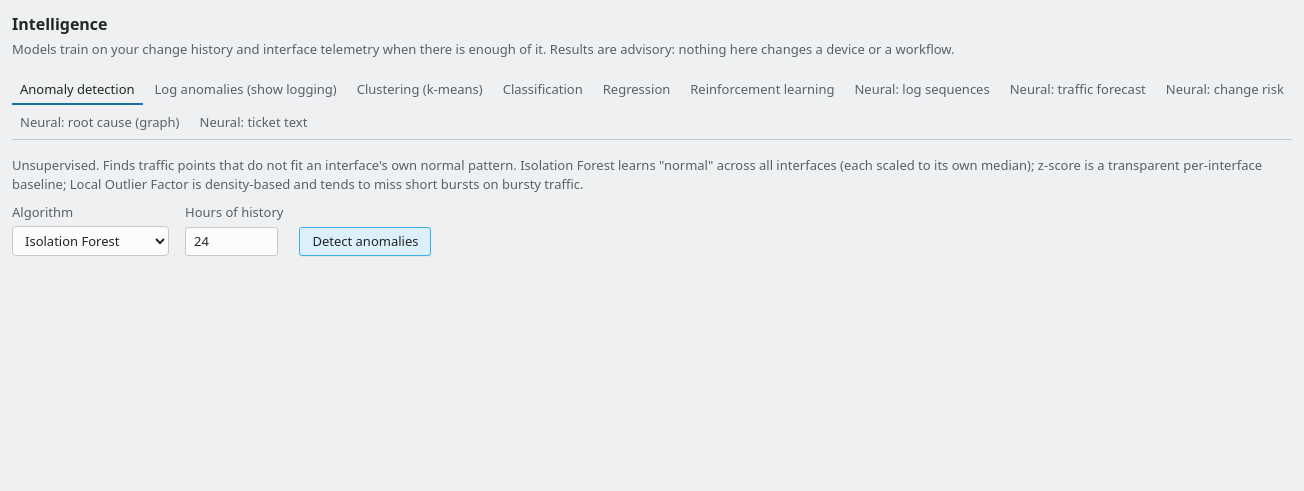
Scenario: MachineLearning › shows anomalous interfaces with a chart
Click the button "Detect anomalies" at (365, 241), box [299,226,432,256]
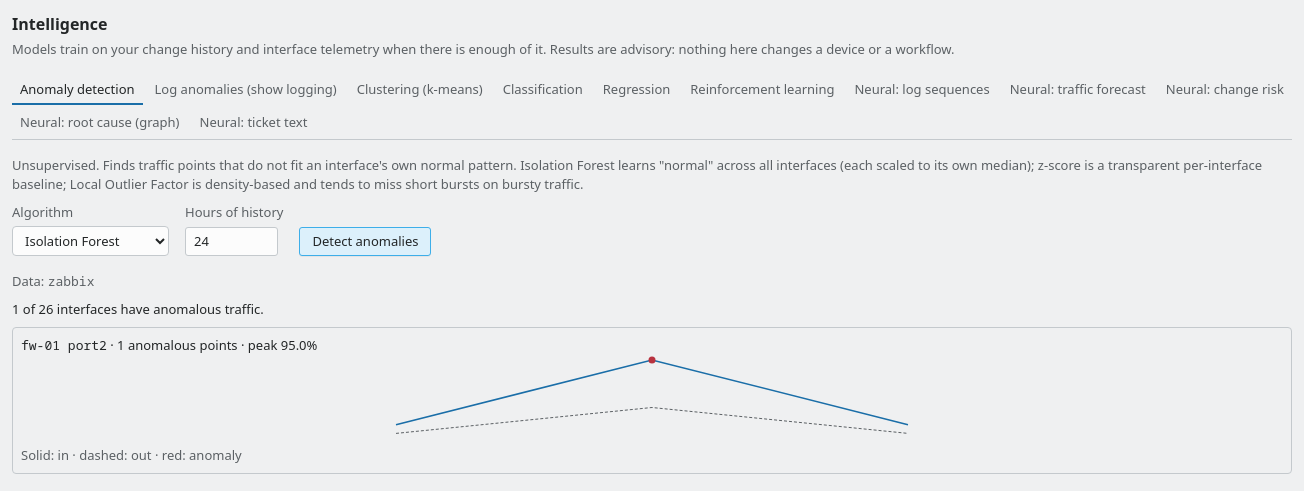
Expected: the text "1 of 26 interfaces have anomalous traffic." is shown, [12,300,264,318]
Expected: the picture named "Traffic for fw-01 port2" is shown, [21,356,1283,446]
